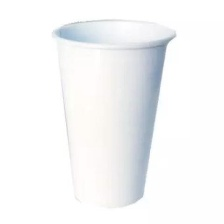paper_cup: (44, 14, 180, 212)
